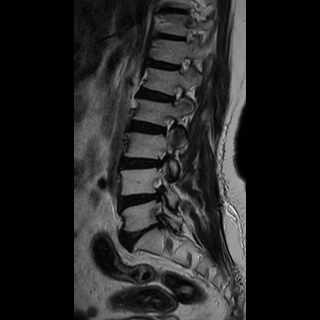RFS0: (153, 112, 180, 144), (164, 82, 189, 113)
